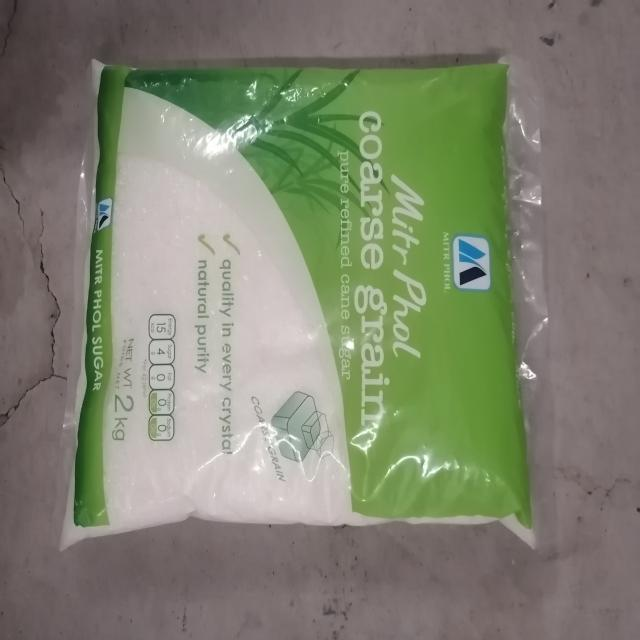object_name: (84, 59, 535, 528)
